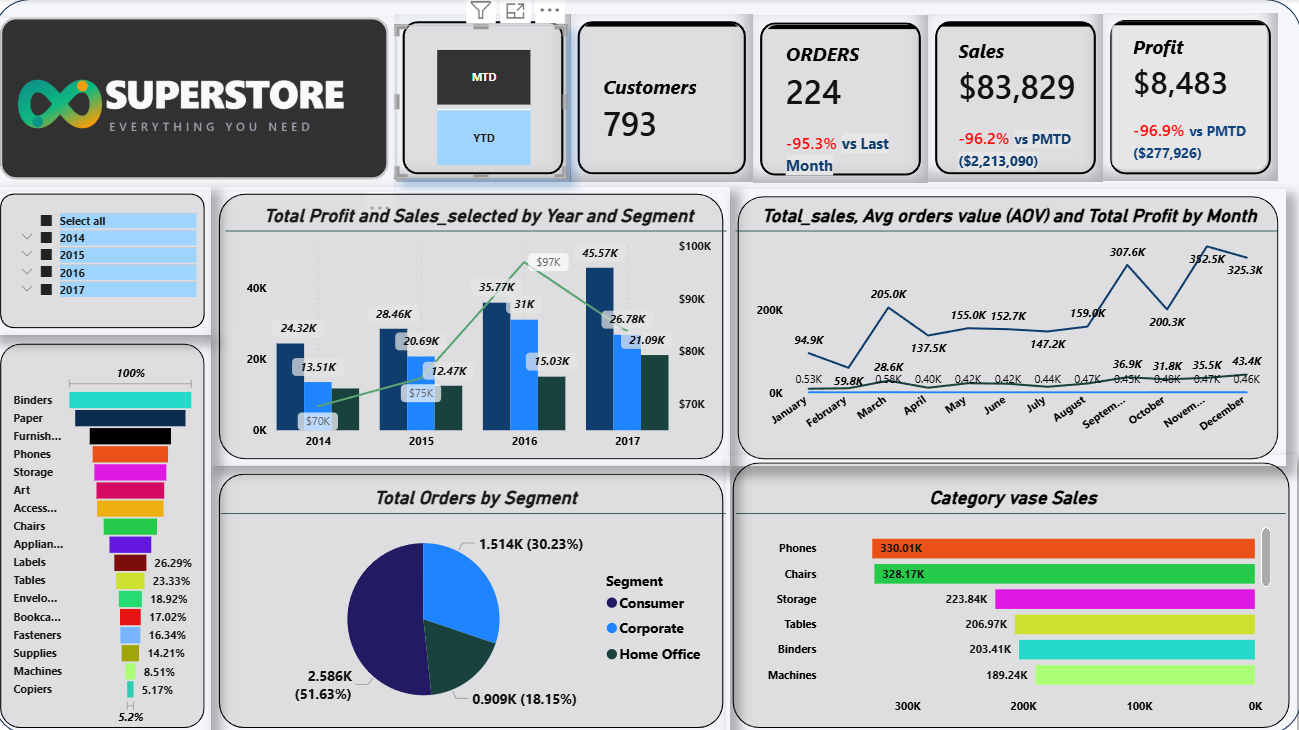

The dashboard page shown, as its layout file describes it:
{"tool":"powerbi","page":{"name":"SUPERSTOREDATA","canvas":[1280,720],"ordinal":0},"visuals":[{"type":"shape","box":[0,0,1280.3,720.2],"z":0},{"type":"shape","box":[1085.9,13.5,171.2,165.1],"z":1000},{"type":"cardVisual","fields":{"Data":["Sample_Superstore.Profit_selected"]},"box":[1077.3,4.9,187.1,181],"z":2000},{"type":"shape","box":[914.7,14.7,171.2,163.9],"z":3000},{"type":"shape","box":[743.5,15.9,171.2,163.9],"z":4000},{"type":"shape","box":[0,11,393.8,172.4],"z":5000},{"type":"shape","box":[564.9,14.7,178.5,163.9],"z":6000},{"type":"cardVisual","fields":{"Data":["Sample_Superstore.Sales_selected"]},"box":[912.2,11,178.5,172.4],"z":7000},{"type":"cardVisual","fields":{"Data":["Sample_Superstore.Order_selected"]},"box":[743.5,13.5,176.1,176.1],"z":8000},{"type":"cardVisual","fields":{"Data":["Sample_Superstore.Total Customers"]},"box":[564.9,11,178.5,177.3],"z":9000},{"type":"shape","box":[393.8,14.7,171.2,163.9],"z":10000},{"type":"shape","box":[716.6,446.3,558.8,273.9],"z":11000},{"type":"slicer","fields":{"Values":["time frame.Timeframe"]},"box":[393.8,25.7,166.3,149.2],"z":12000},{"type":"image","box":[0,17.1,393.8,171.2],"z":13000},{"type":"clusteredBarChart","title":"Category vase Sales","fields":{"Category":["Sample_Superstore.Sub-Category"],"Y":["Sample_Superstore.Total_sales"]},"box":[726.4,457.3,538,255.6],"z":14000},{"type":"shape","box":[214,183.4,507.5,273.9],"z":15000},{"type":"shape","box":[721.5,185.9,542.9,271.5],"z":16000},{"type":"lineChart","fields":{"Category":["Sample_Superstore.Order_date.Variation.Date Hierarchy.Month"],"Y":["Sample_Superstore.Total_sales","Sample_Superstore.Avg orders value (AOV)","Sample_Superstore.Total Profit"]},"box":[726.4,181,530.7,256.8],"z":17000},{"type":"shape","box":[214,457.3,507.5,262.9],"z":18000},{"type":"shape","box":[0,330.2,214,390.1],"z":19000},{"type":"shape","box":[0,183.4,214,145.5],"z":20000},{"type":"lineClusteredColumnComboChart","fields":{"Y":["Sample_Superstore.Total Profit"],"Series":["Sample_Superstore.Segment"],"Category":["Sample_Superstore.Order_date.Variation.Date Hierarchy.Year"],"Y2":["Sample_Superstore.Sales_selected"]},"box":[227.4,181,490.4,272.7],"z":21000},{"type":"funnel","fields":{"Category":["Sample_Superstore.Sub-Category"],"Y":["Sample_Superstore.Total Orders"]},"box":[0,337.5,214,382.7],"z":22000},{"type":"slicer","fields":{"Values":["Sample_Superstore.Order_date.Variation.Date Hierarchy.Year","Sample_Superstore.Order_date.Variation.Date Hierarchy.Month"]},"box":[0,188.3,214,141.8],"z":23000},{"type":"pieChart","fields":{"Category":["Sample_Superstore.Segment"],"Y":["Sample_Superstore.Total Orders"]},"box":[222.6,457.3,494,255.6],"z":24000}]}

Visuals, with their boxes in screenshot pixels (x1, y1, x2, y2), scaled from the page's 1280x720 canvas onto the 1299x730 screenshot:
shape: crop(0, 0, 1298, 729)
shape: crop(1102, 14, 1276, 181)
cardVisual - Sample_Superstore.Profit_selected: crop(1093, 5, 1283, 188)
shape: crop(928, 15, 1102, 181)
shape: crop(755, 16, 928, 182)
shape: crop(0, 11, 400, 186)
shape: crop(573, 15, 754, 181)
cardVisual - Sample_Superstore.Sales_selected: crop(926, 11, 1107, 186)
cardVisual - Sample_Superstore.Order_selected: crop(755, 14, 933, 192)
cardVisual - Sample_Superstore.Total Customers: crop(573, 11, 754, 191)
shape: crop(400, 15, 573, 181)
shape: crop(727, 452, 1294, 729)
slicer - time frame.Timeframe: crop(400, 26, 568, 177)
image: crop(0, 17, 400, 191)
"Category vase Sales" clusteredBarChart: crop(737, 464, 1283, 723)
shape: crop(217, 186, 732, 464)
shape: crop(732, 188, 1283, 464)
lineChart - Sample_Superstore.Order_date.Variation.Date Hierarchy.Month x Sample_Superstore.Total_sales: crop(737, 184, 1276, 444)
shape: crop(217, 464, 732, 729)
shape: crop(0, 335, 217, 729)
shape: crop(0, 186, 217, 333)
lineClusteredColumnComboChart - Sample_Superstore.Total Profit x Sample_Superstore.Segment: crop(231, 184, 728, 460)
funnel - Sample_Superstore.Sub-Category x Sample_Superstore.Total Orders: crop(0, 342, 217, 729)
slicer - Sample_Superstore.Order_date.Variation.Date Hierarchy.Year x Sample_Superstore.Order_date.Variation.Date Hierarchy.Month: crop(0, 191, 217, 335)
pieChart - Sample_Superstore.Segment x Sample_Superstore.Total Orders: crop(226, 464, 727, 723)
